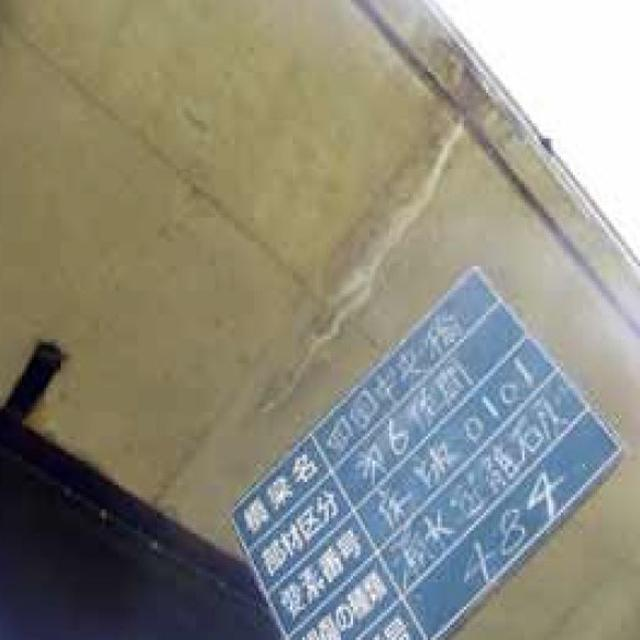leakage: (303, 87, 441, 346)
